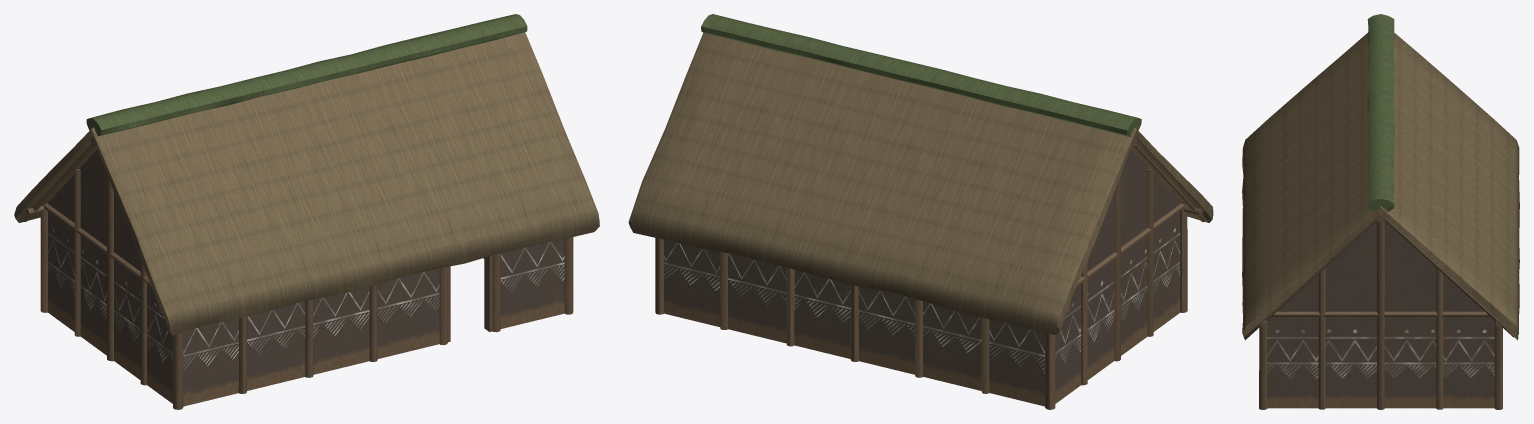
The model's file is house_005_pattern.glb.
3 views of the same model, side by side, from view 1: azimuth 30°, elevation 25°; view 2: azimuth 150°, elevation 25°; view 3: azimuth 270°, elevation 25° (orthographic). The views are drawn at different scales.
Visible parts, largest first — view 1: Roof, Wall, Frame, DoorRecess; view 2: Roof, Wall, Frame; view 3: Roof, Wall, Frame.
Part boxes in pixels (left/top/right/bottom): Roof: left=14, top=14, right=599, bottom=335; Wall: left=47, top=149, right=564, bottom=406; Frame: left=23, top=137, right=573, bottom=409; DoorRecess: left=448, top=255, right=492, bottom=342; Roof: left=628, top=14, right=1213, bottom=335; Wall: left=664, top=149, right=1180, bottom=406; Frame: left=655, top=137, right=1205, bottom=409; Roof: left=1242, top=14, right=1519, bottom=340; Wall: left=1267, top=221, right=1494, bottom=408; Frame: left=1249, top=215, right=1514, bottom=409.
Size of the model in its own units: 9.4 by 5.09 by 5.9.
3 materials, 3 textured.
